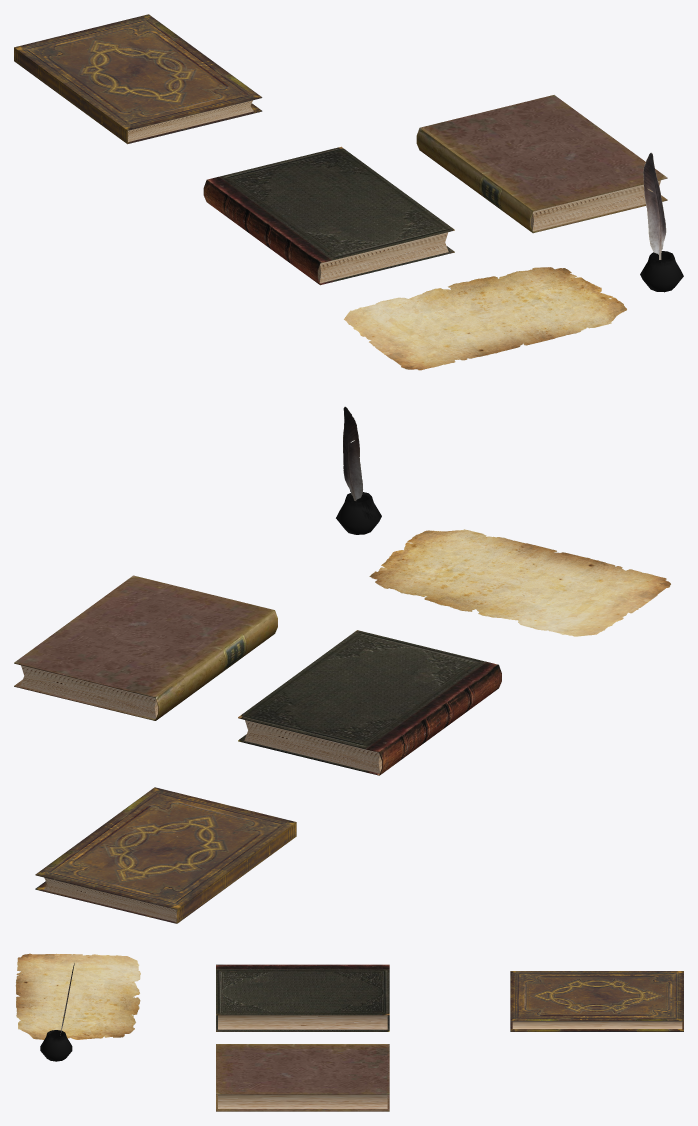
Rendered from Books.FBX.
3 renders of one model, top to bottom at view 1: azimuth 30°, elevation 25°; view 2: azimuth 150°, elevation 25°; view 3: azimuth 270°, elevation 25°, orthographic. The views are drawn at different scales.
Parts seen in each view (by area): view 1: Book 2, Book 3, Book 1, Paper, Feather, Inkwell; view 2: Book 2, Book 3, Book 1, Paper, Inkwell, Feather; view 3: Book 2, Book 3, Book 1, Paper, Inkwell.
Boxes of the visible parts, left/top/right/bottom form: Book 2: left=203, top=146, right=454, bottom=285; Book 3: left=416, top=95, right=667, bottom=233; Book 1: left=14, top=14, right=262, bottom=144; Paper: left=344, top=267, right=626, bottom=370; Feather: left=643, top=152, right=666, bottom=259; Inkwell: left=640, top=251, right=683, bottom=292; Book 2: left=238, top=630, right=501, bottom=775; Book 3: left=14, top=575, right=277, bottom=720; Book 1: left=35, top=787, right=296, bottom=923; Paper: left=369, top=529, right=670, bottom=636; Inkwell: left=336, top=492, right=381, bottom=534; Feather: left=343, top=406, right=362, bottom=500; Book 2: left=216, top=964, right=389, bottom=1031; Book 3: left=216, top=1044, right=389, bottom=1111; Book 1: left=510, top=971, right=683, bottom=1031; Paper: left=15, top=953, right=140, bottom=1039; Inkwell: left=40, top=1030, right=72, bottom=1061.
Size of the model in its own units: 40.9 by 14.24 by 79.3.
